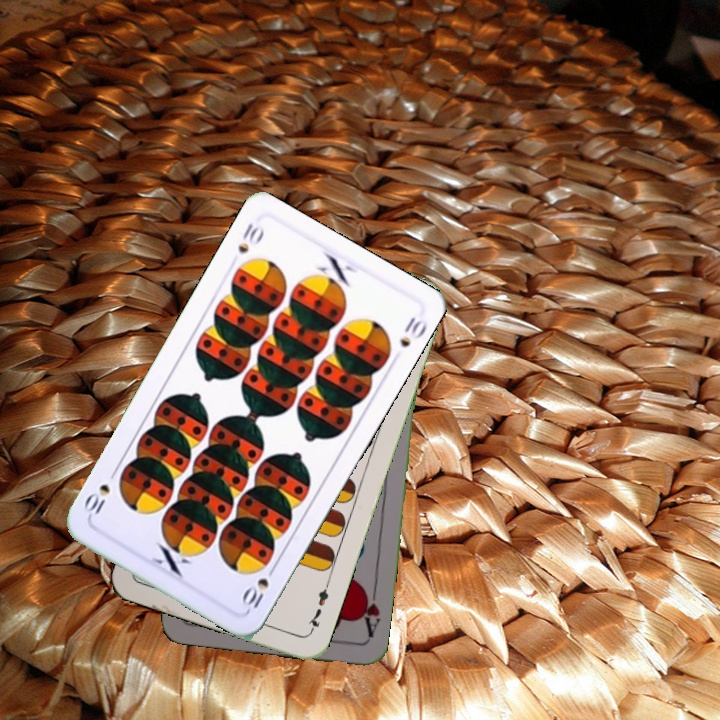E7: (305, 578, 332, 636)
HA: (355, 582, 383, 641)
S10: (237, 560, 280, 614), (233, 219, 267, 256)
